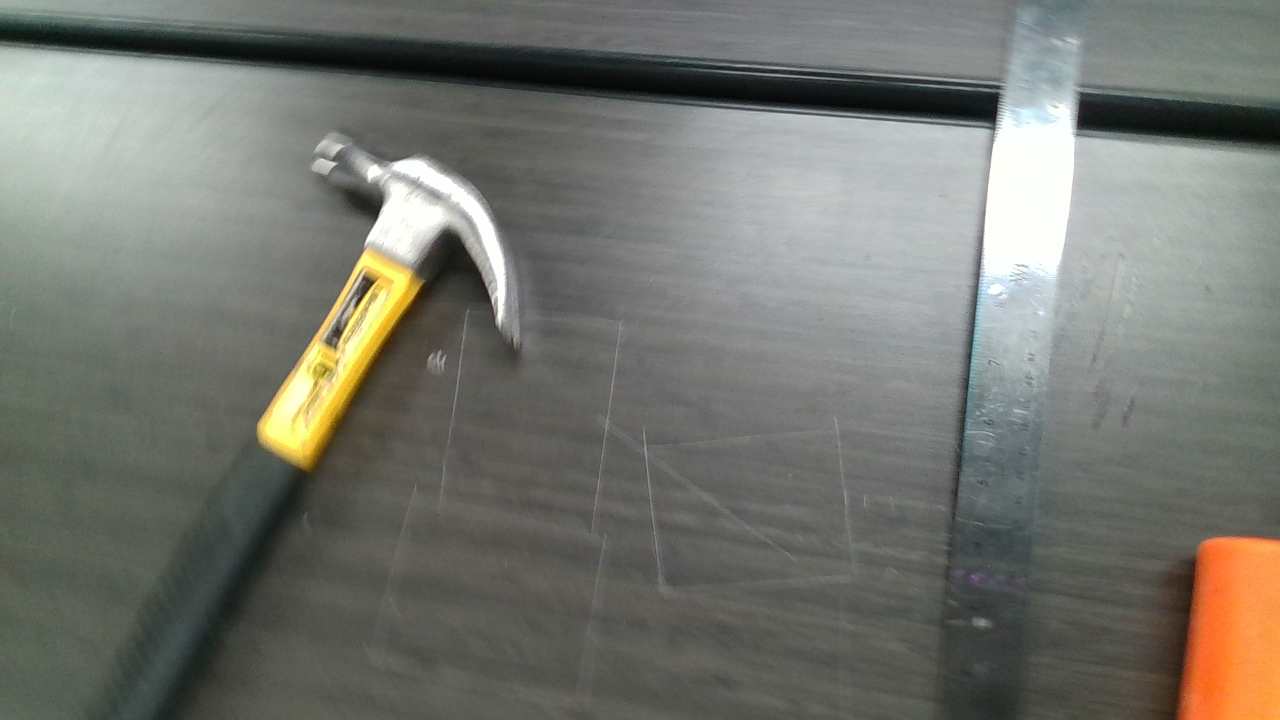Orange Hammer: (1179, 534, 1280, 720)
